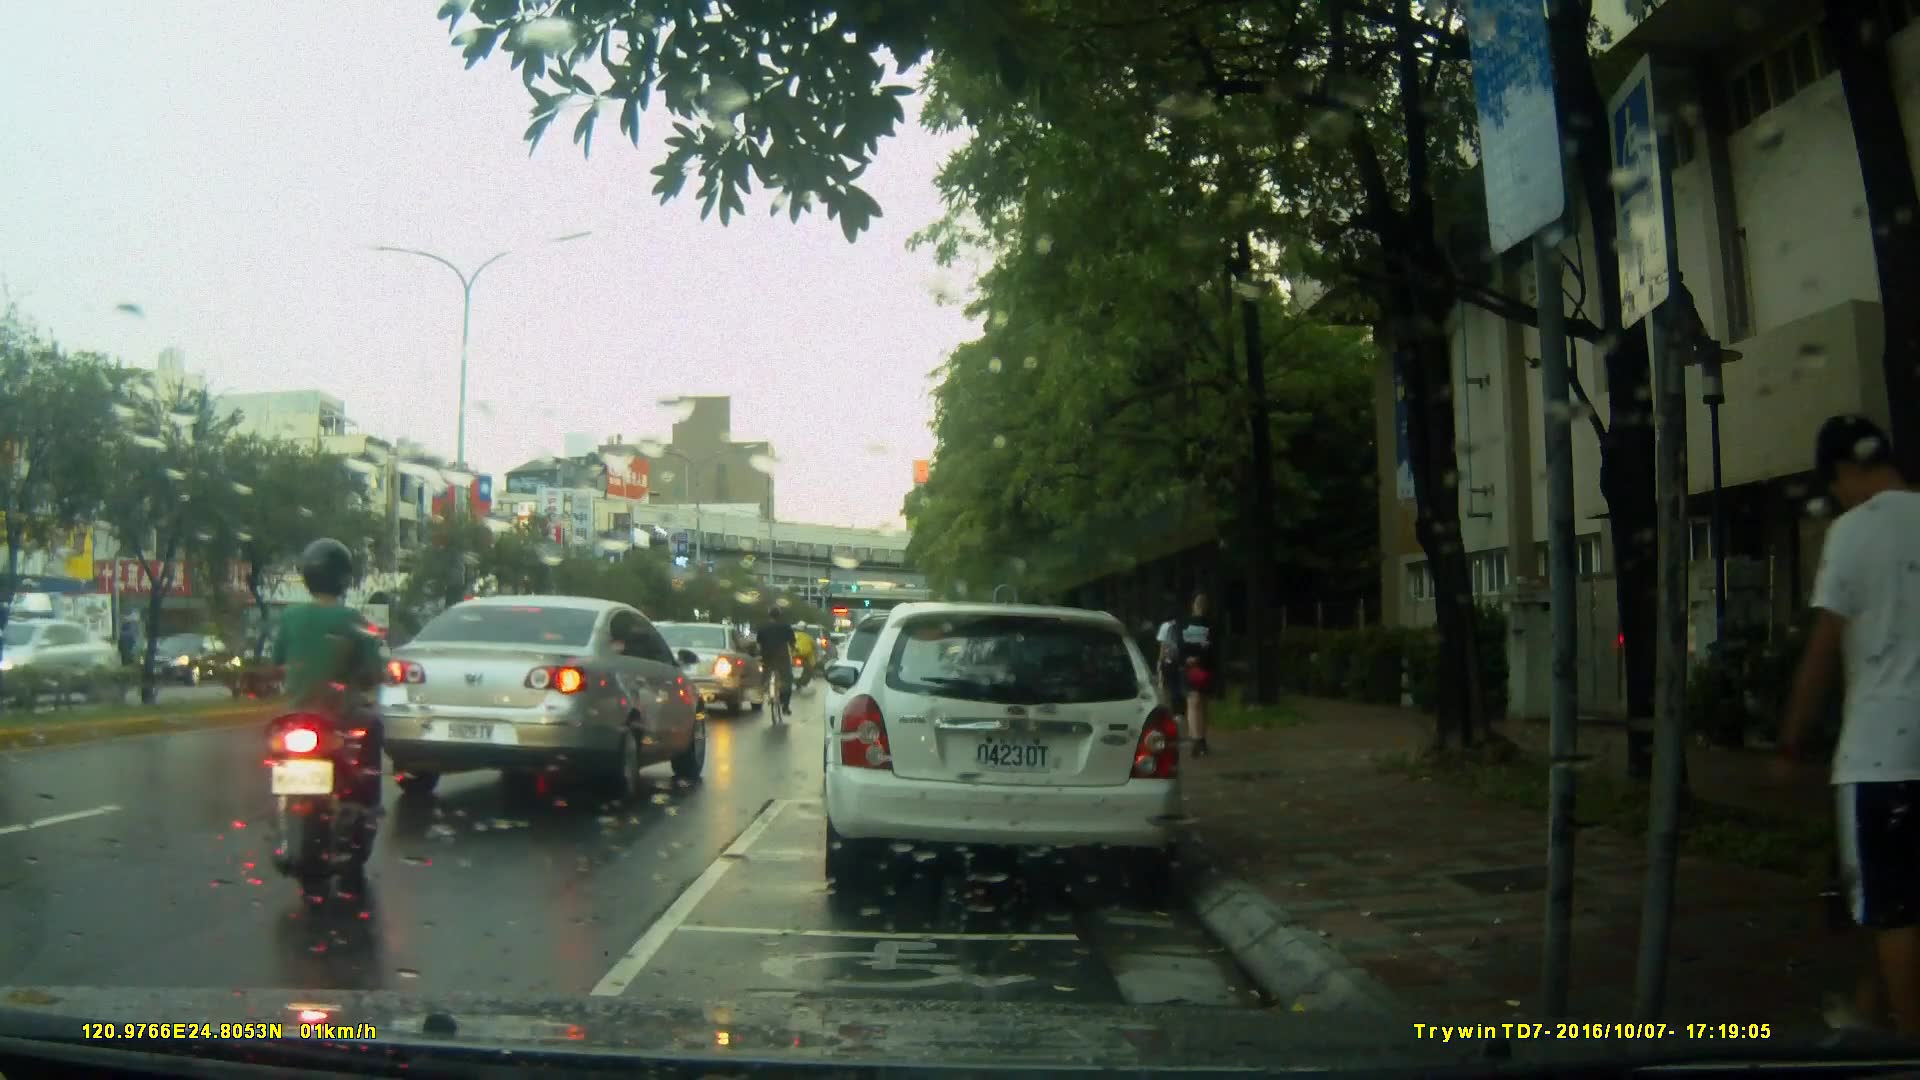pedestrian: (1168, 593, 1225, 753), (1146, 603, 1194, 732)
rider: (253, 535, 373, 931), (754, 606, 797, 740), (791, 615, 821, 694)
vehicle: (820, 602, 1188, 898), (376, 593, 713, 809), (620, 623, 767, 720), (1, 587, 129, 699), (2, 622, 131, 704), (134, 634, 239, 689)
